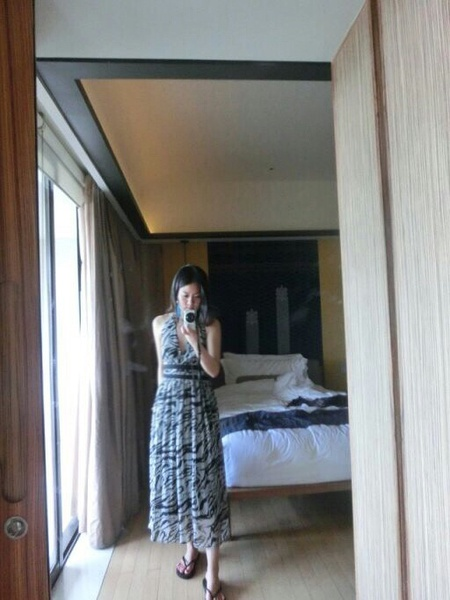face: (177, 281, 201, 318)
